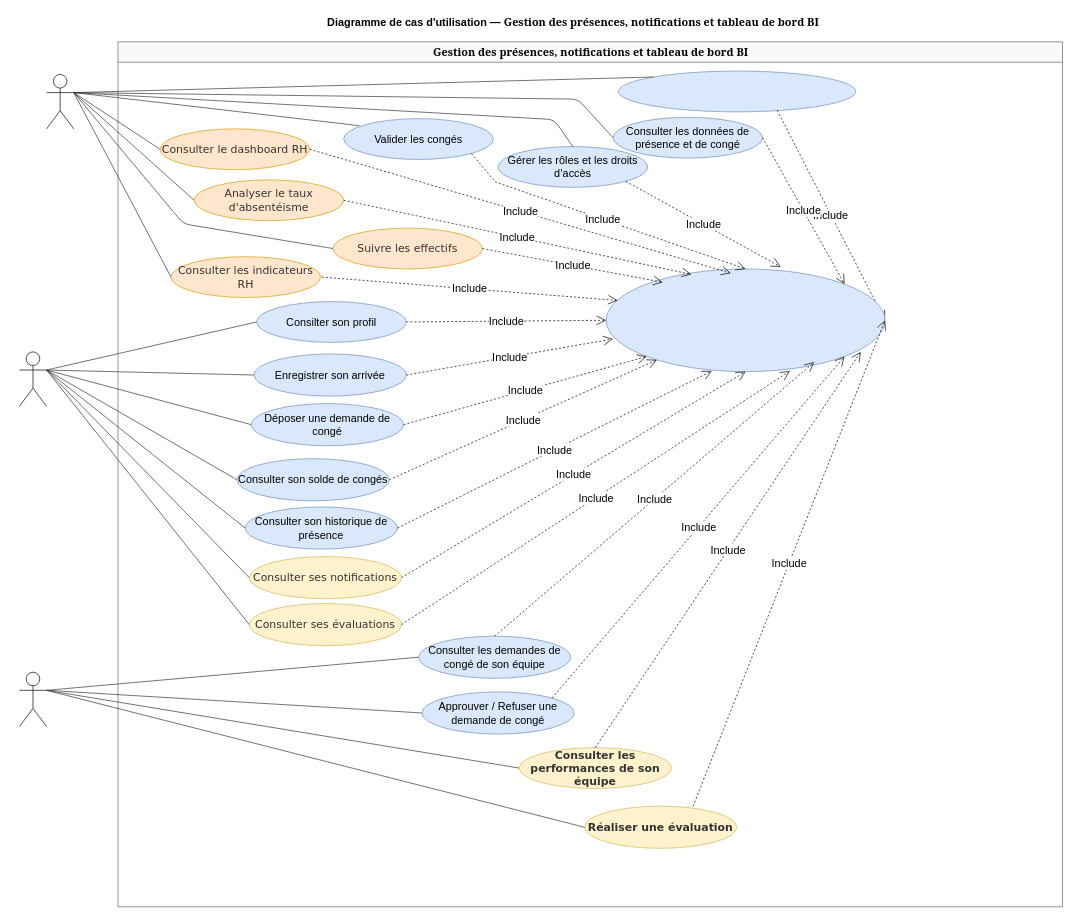
The diagram is 1074 pixels wide and 919 high, and some of its shapes have lost their labels. The centre of each missing label's shape, as x and y in pixels:
Employé: [33,378]
Gestion des employés: [737,91]
Manager: [33,699]
Responsable Rh: [60,101]
s'authentifier: [745,320]
